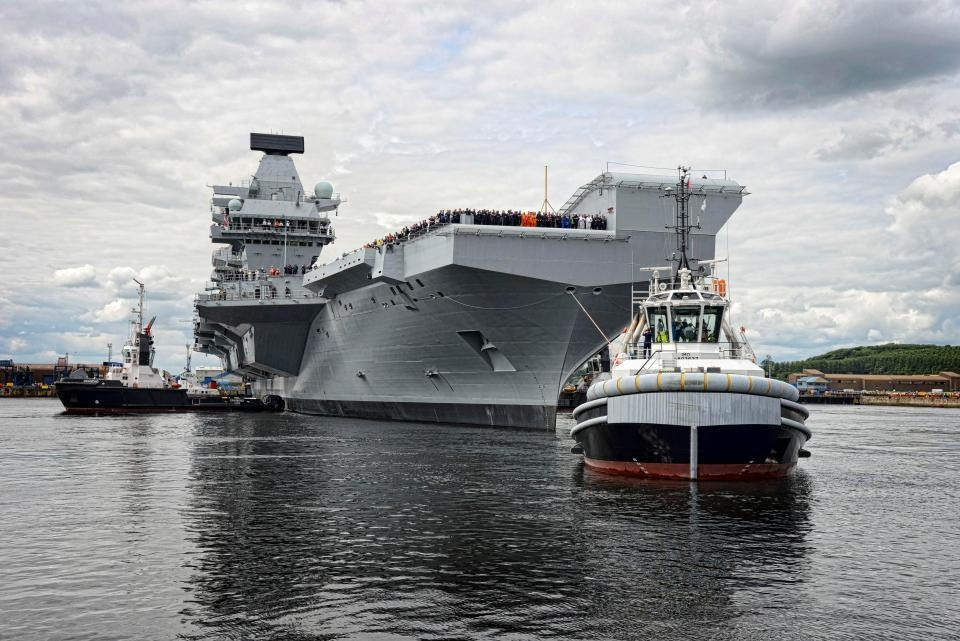otherboat: (546, 235, 820, 491), (56, 297, 279, 428)
warship: (161, 91, 757, 420)
